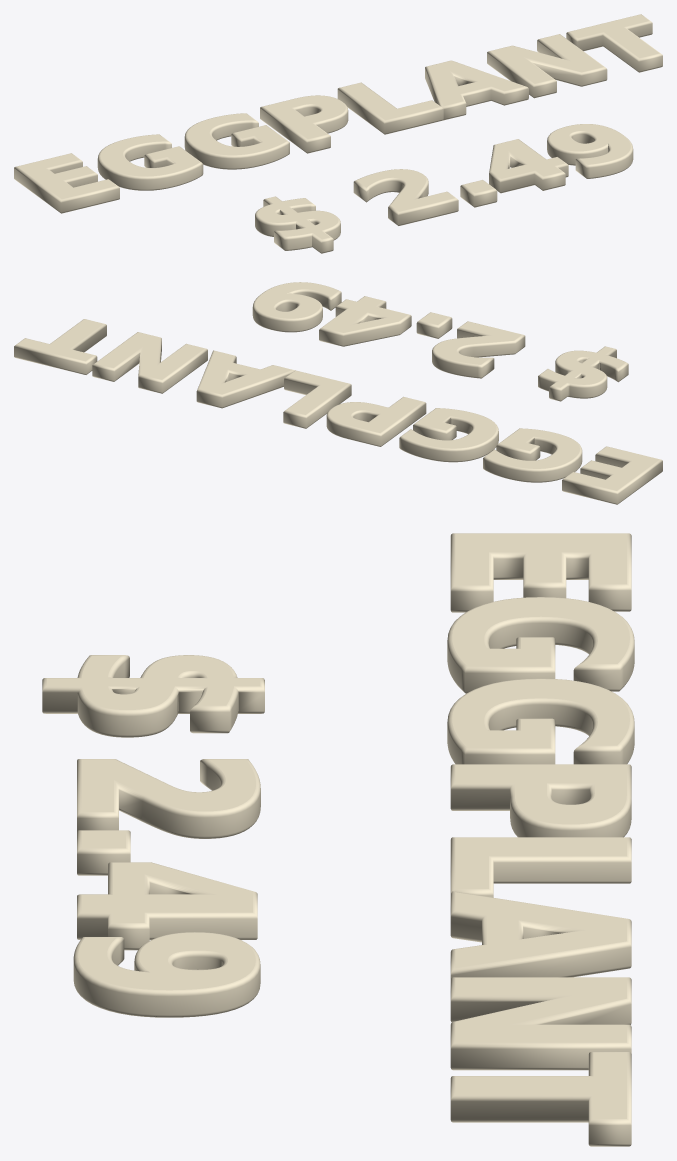
The model's file is SM_EG_Produce_price_8f6431811d.fbx.
3 renders of one model, top to bottom at view 1: azimuth 30°, elevation 25°; view 2: azimuth 150°, elevation 25°; view 3: azimuth 270°, elevation 25°, orthographic. The views are drawn at different scales.
Visible parts, largest first — view 1: SM_EG_Produce_price_8f6431811d; view 2: SM_EG_Produce_price_8f6431811d; view 3: SM_EG_Produce_price_8f6431811d.
Part boxes in pixels (x1,y1,x2,y2): SM_EG_Produce_price_8f6431811d: (14,14,662,253); SM_EG_Produce_price_8f6431811d: (14,282,662,504); SM_EG_Produce_price_8f6431811d: (42,533,634,1146).
Bounding box in the file's own units: 20.51 × 8.72 × 0.44.
